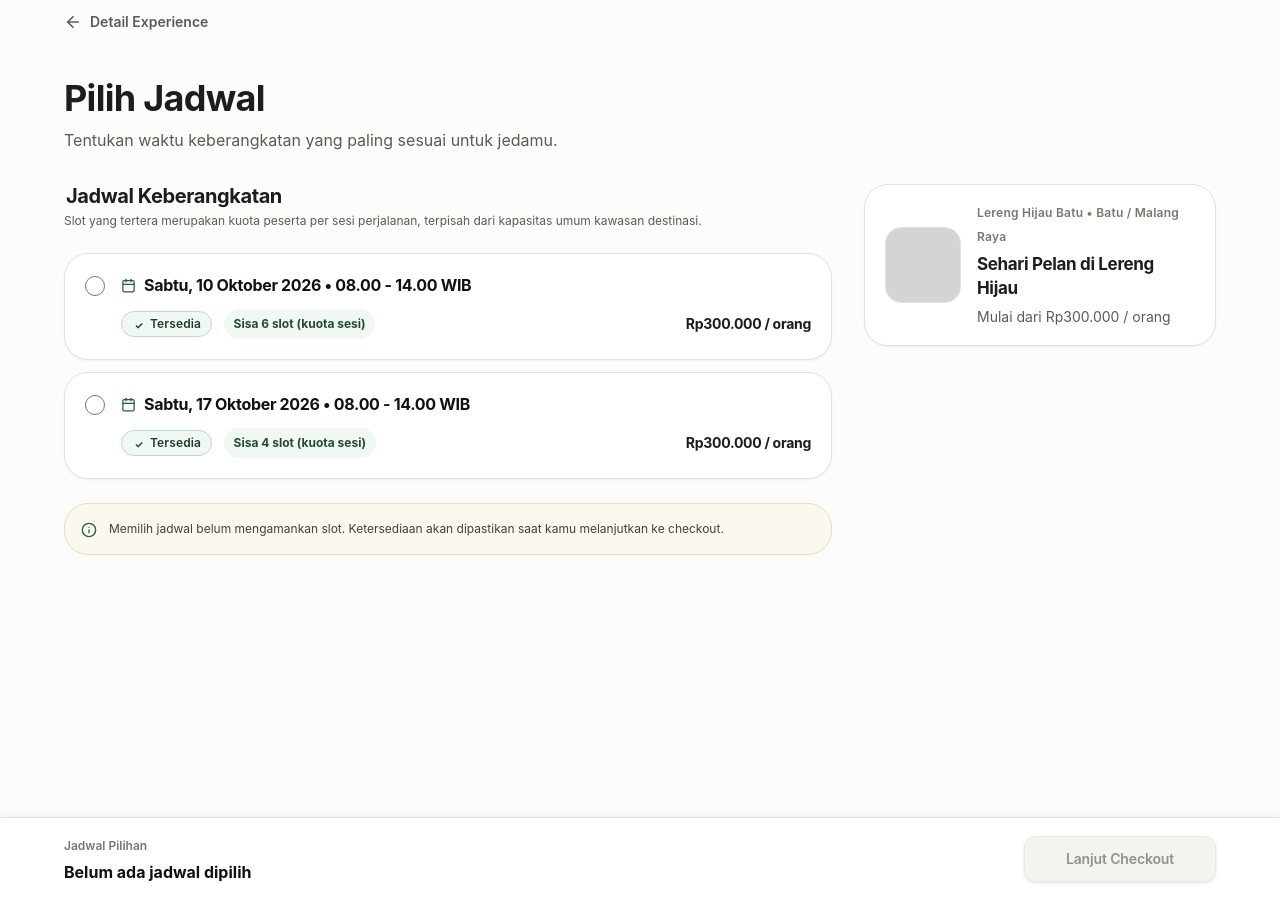
it: SessionSelectionScreen Tests & Contracts › 4. REAL OPEN -> CLOSED stale revalidation clears selection, updates card to Ditutup disabled, and shows warning notice
Click the radio button labelled "Sabtu, 10 Oktober 2026 • 08.00 - 14.00 WIB": click(95, 286) [85, 276, 105, 296]
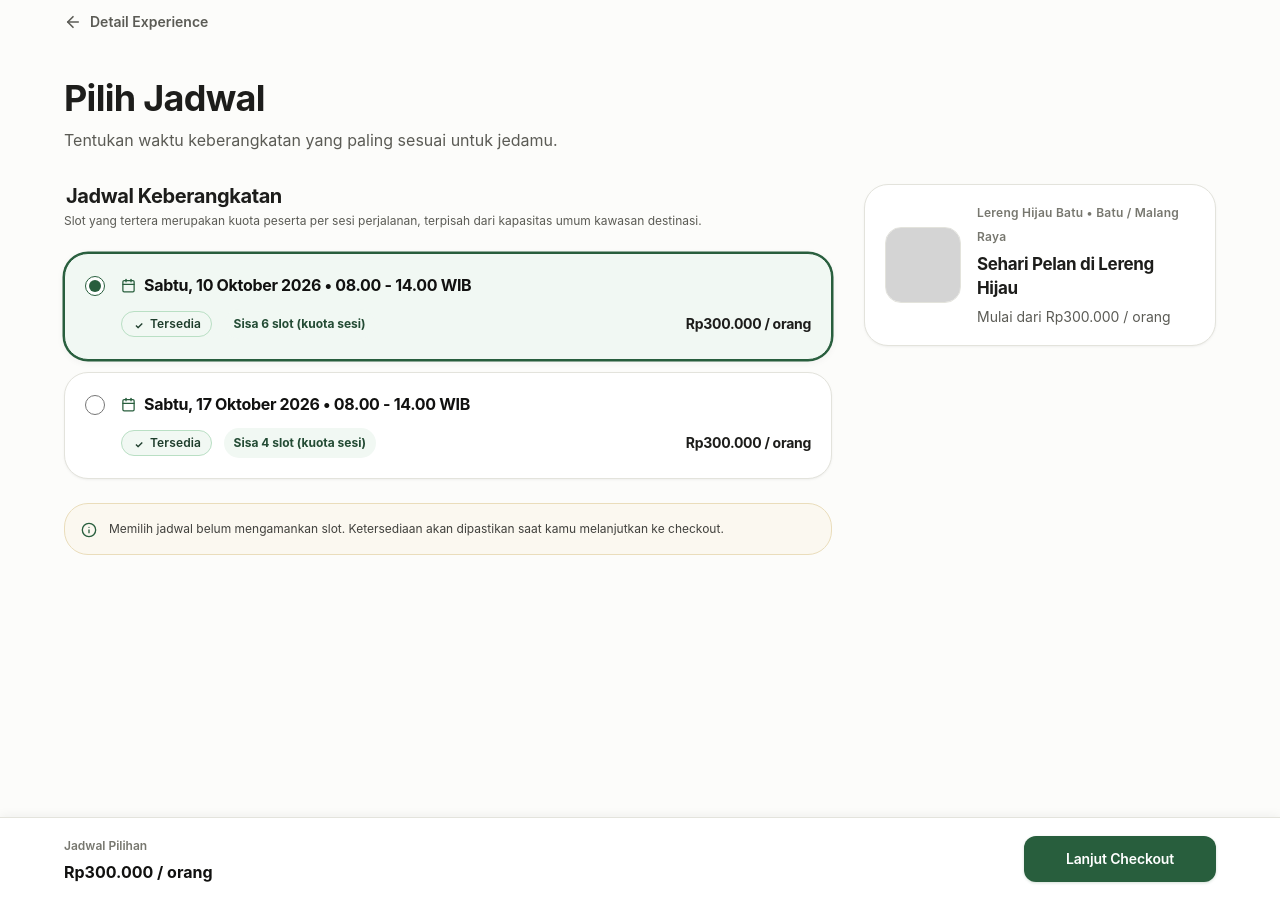
Click the button "Lanjut Checkout": click(1120, 859) [1024, 836, 1216, 882]
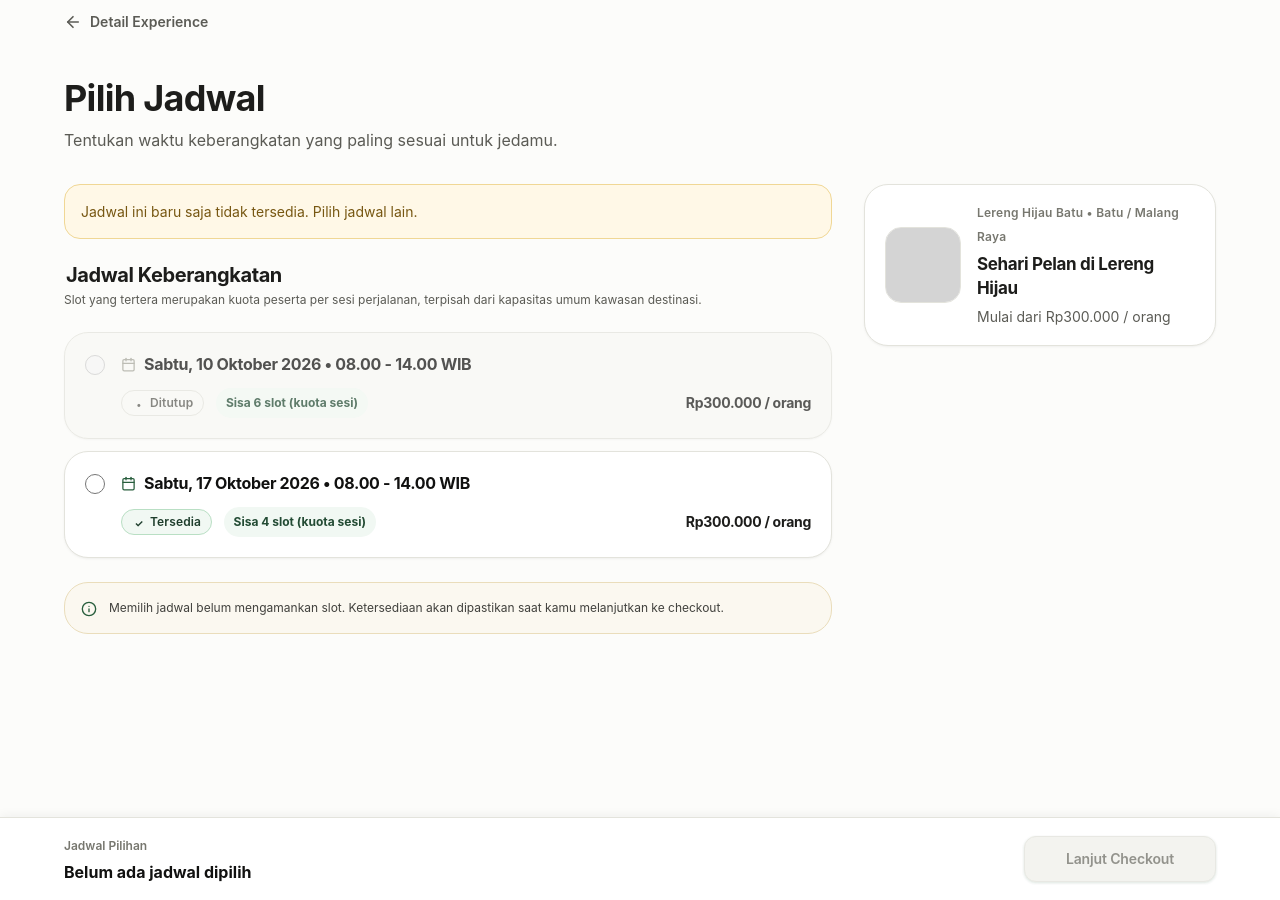
Expected: the radio button labelled "Sabtu, 10 Oktober 2026 • 08.00 - 14.00 WIB" is not checked, [85, 355, 105, 375]
Expected: the text "Jadwal ini baru saja tidak tersedia. Pilih jadwal lain." is shown, [81, 203, 418, 220]
Expected: the element with class "session-card" shows "Ditutup", [150, 395, 193, 410]
